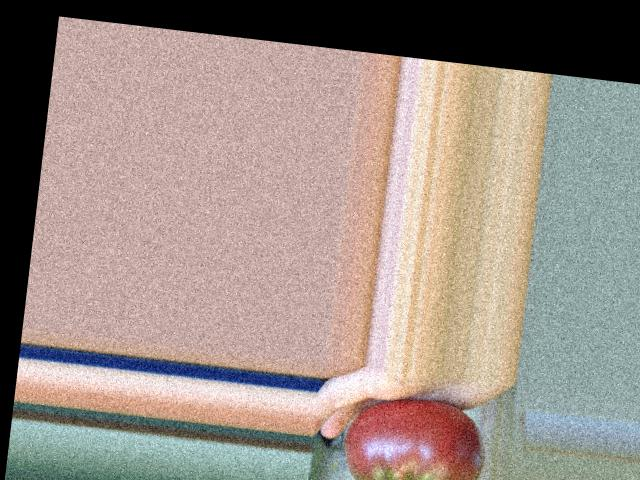tomato: (340, 391, 490, 480)
